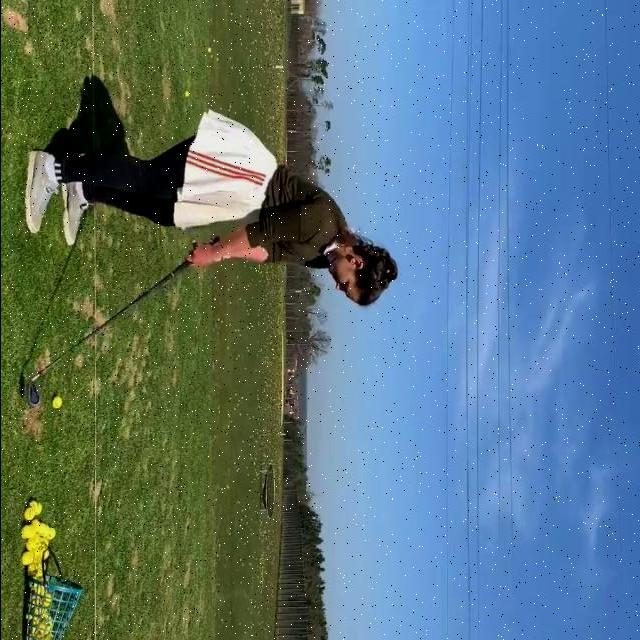golf ball: (21, 551, 32, 565), (31, 551, 41, 565), (20, 525, 29, 540), (25, 565, 36, 577), (28, 500, 37, 514), (39, 548, 49, 560), (29, 519, 38, 532), (46, 527, 55, 540), (36, 564, 45, 577), (51, 397, 61, 408), (22, 509, 32, 520), (32, 621, 42, 632), (27, 536, 35, 549), (42, 621, 51, 632), (32, 610, 41, 621), (41, 608, 48, 622), (42, 593, 49, 607), (37, 522, 44, 535), (41, 536, 48, 549), (32, 630, 41, 640), (34, 599, 42, 610), (28, 525, 35, 537), (43, 524, 49, 538), (35, 535, 41, 549), (41, 631, 50, 640), (25, 541, 32, 552), (36, 585, 43, 595), (37, 502, 41, 517), (30, 582, 36, 592)
golf club-handle: (26, 235, 219, 406)
golf club-head: (27, 382, 40, 406)
